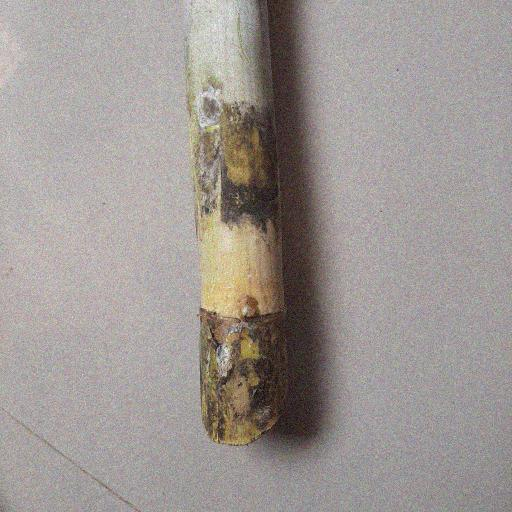Bud: (239, 295, 260, 322)
